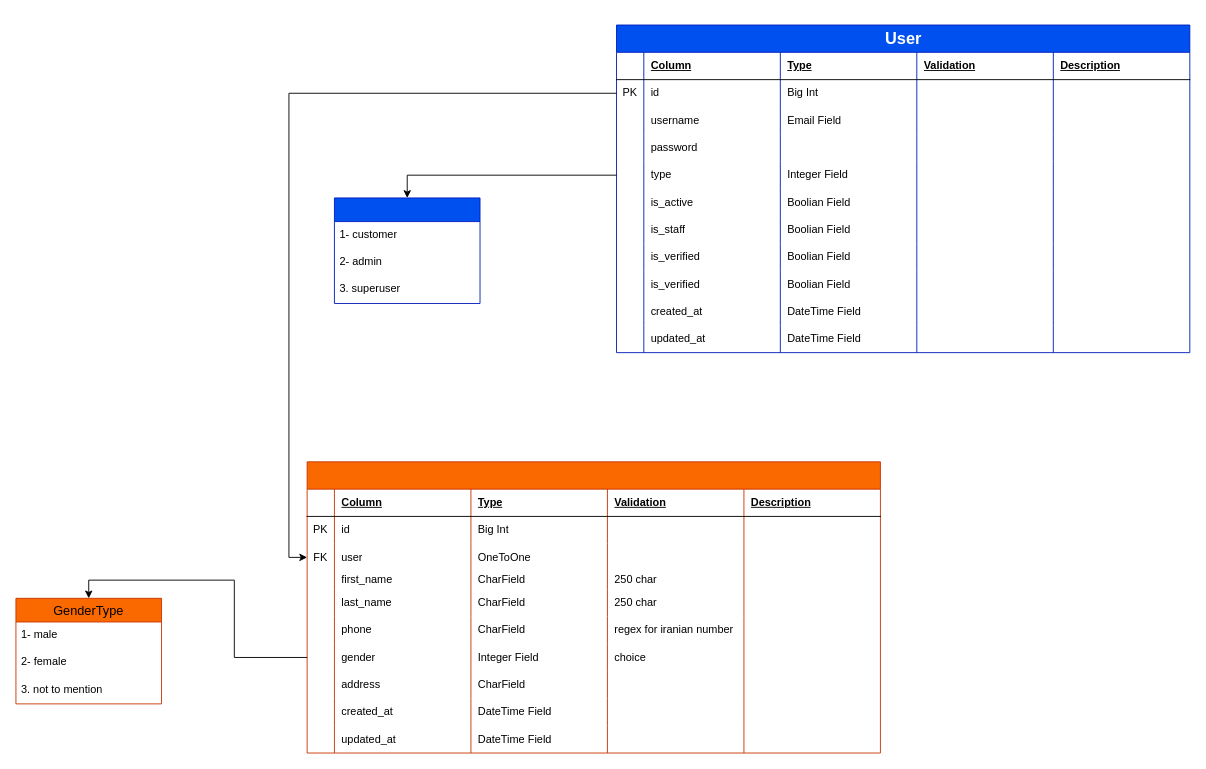
This 1206x769 diagram has some shape labels left out. Each missing label, with the box of its shape:
Profile: (306, 461, 880, 753)
UserType: (334, 197, 480, 303)
